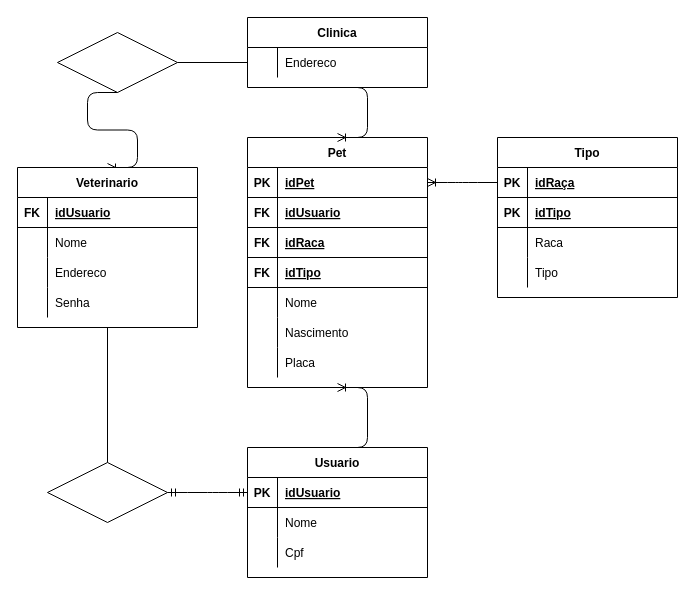
This 695x595 diagram has some shape labels left out. Each missing label, with the centre of its shape:
"Atender" goes at pixel 107 492.
"Cadastrar" goes at pixel 117 62.
